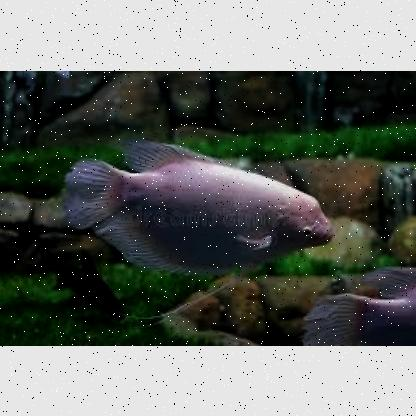gurame: (66, 139, 334, 277)
